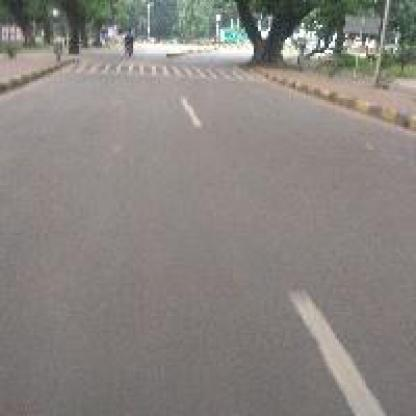Speed Bump: (62, 56, 268, 83)
